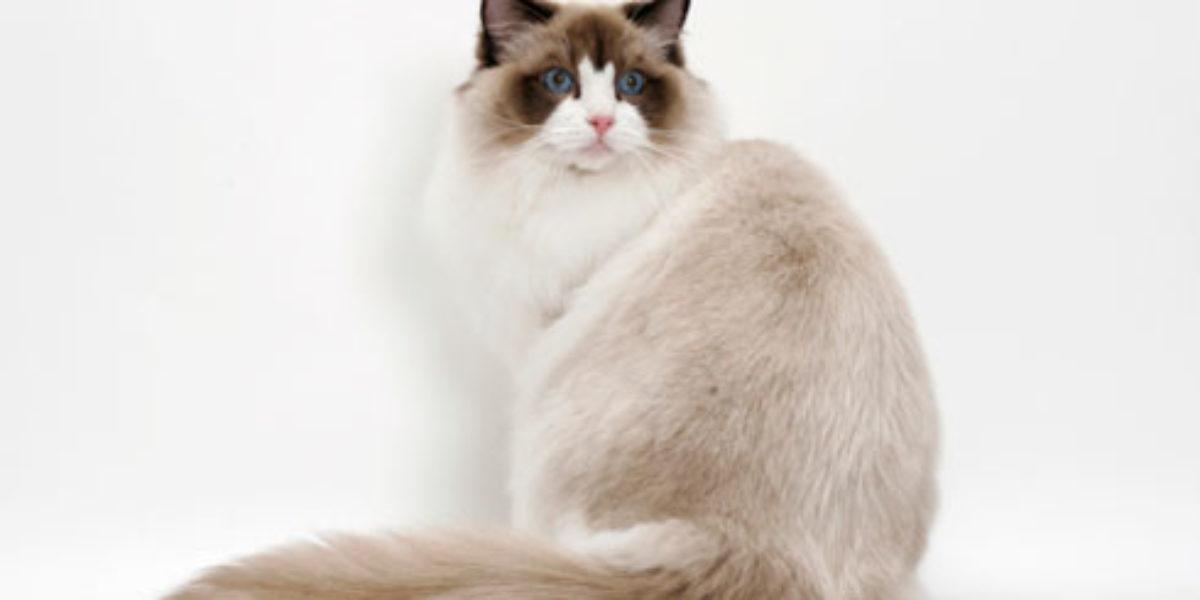ragdoll: (477, 1, 696, 190)
